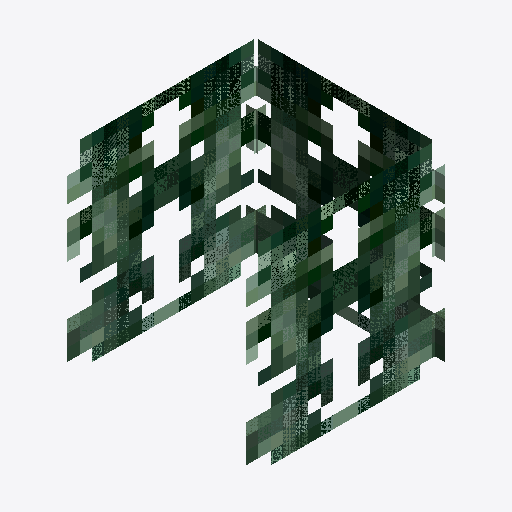
A Minecraft block model of 3 cuboids, rendered isometrically (azimuth 45°, elevation 35.3°) with the resource pack's own textures.
Visible parts, largest first — element 2, element 3, element 1.
Boxes of the visible parts, box(x1,y1,x2,y2) form: element 2: box(246, 143, 444, 464); element 3: box(67, 39, 265, 361); element 1: box(246, 39, 444, 361).
Bounding box in the file's own units: 16 × 16 × 16.